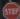Stop sign: (0, 0, 19, 18)
